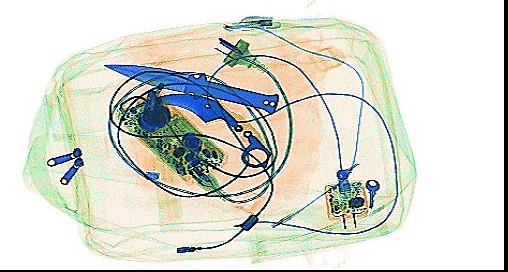knife: (133, 90, 272, 168), (102, 60, 276, 114)
